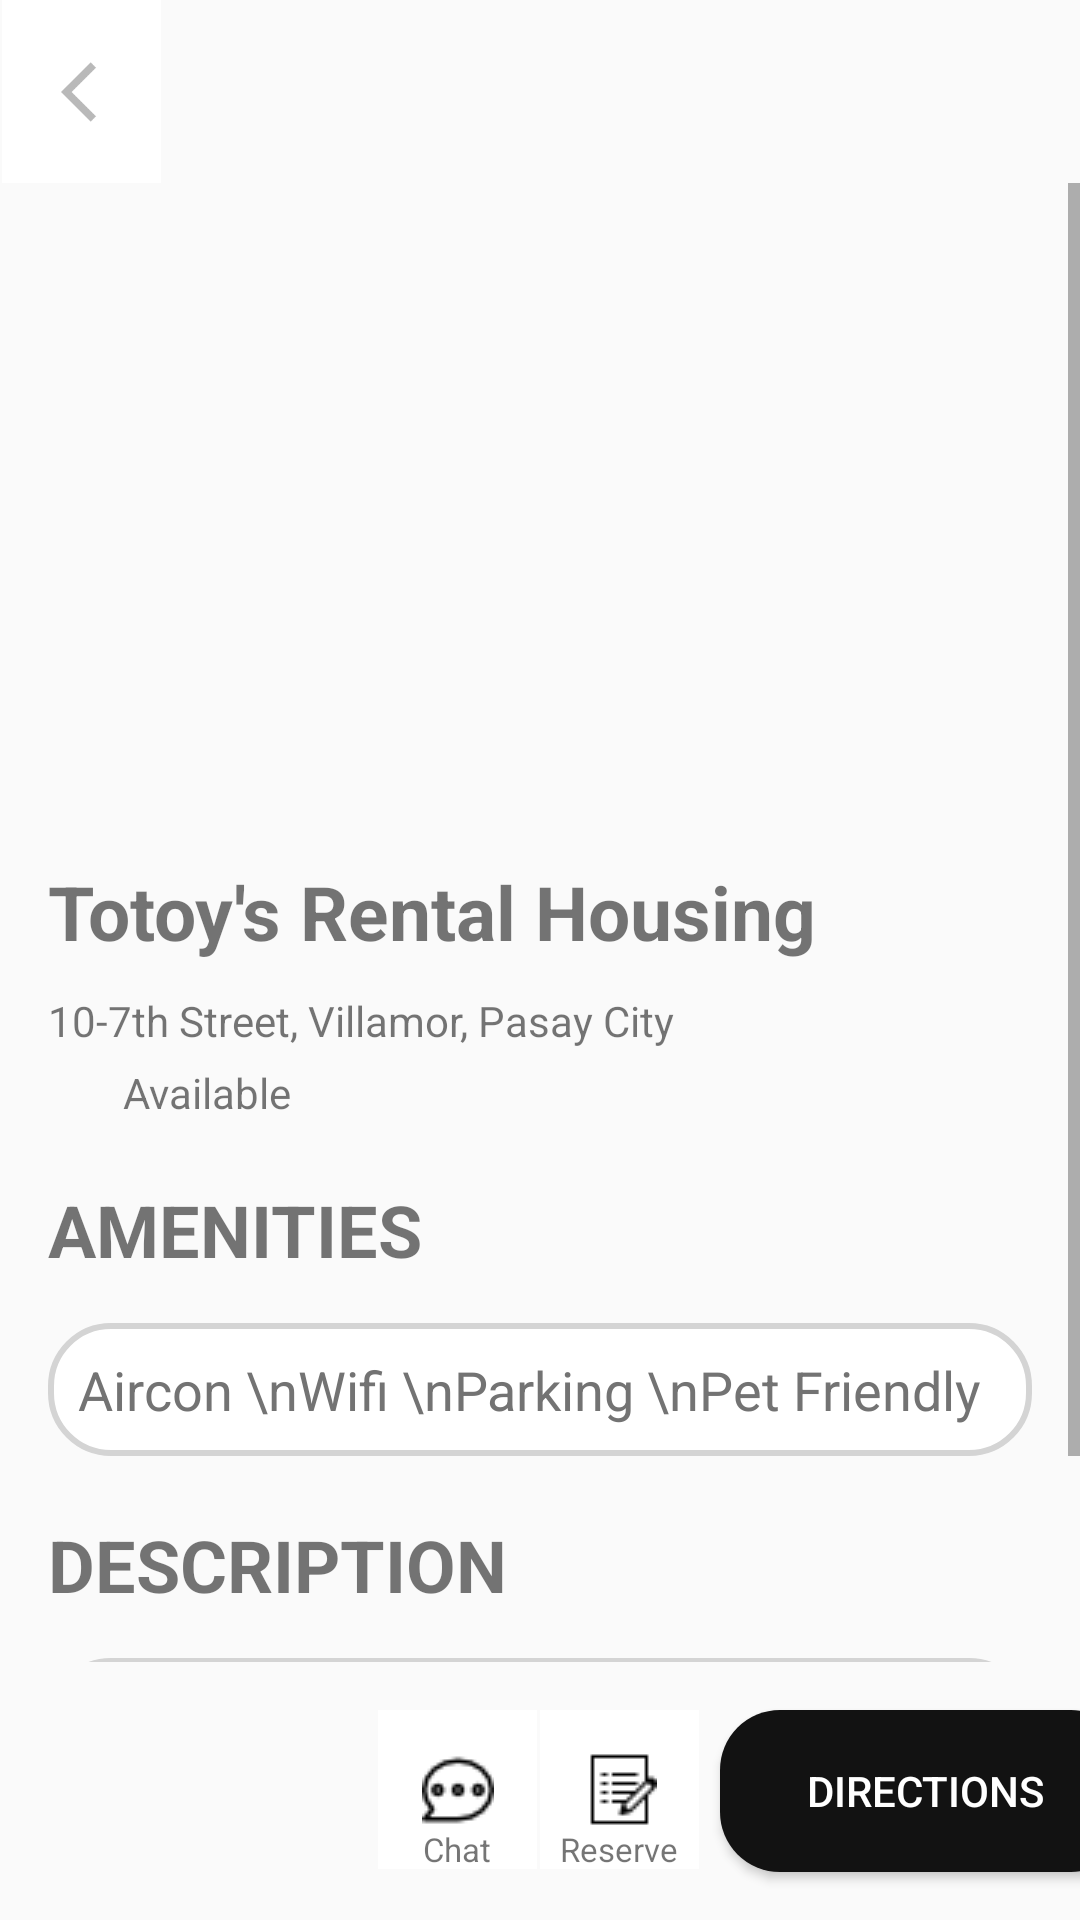

Icons on this 1080x1920 Android screen, each with the point to tap as [x,y]:
arrow back: [78,92]
